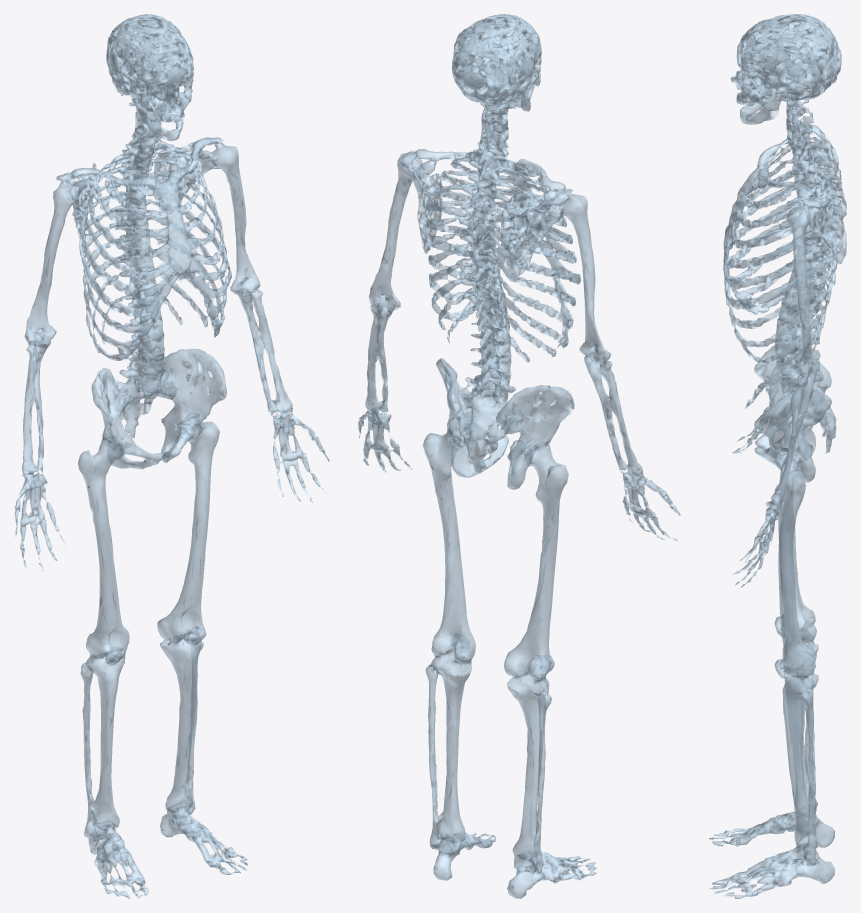
Rendered from wzorzec.glb.
The picture shows the model from 3 angles, left to right: view 1: azimuth 30°, elevation 25°; view 2: azimuth 150°, elevation 25°; view 3: azimuth 270°, elevation 25°; orthographic projection. The views are drawn at different scales.
Visible parts, largest first — view 1: Wzorzec szkieletu; view 2: Wzorzec szkieletu; view 3: Wzorzec szkieletu.
Boxes of the visible parts, box(x1,y1,x2,y2) form: Wzorzec szkieletu: box(14, 14, 329, 898); Wzorzec szkieletu: box(358, 14, 680, 898); Wzorzec szkieletu: box(709, 14, 846, 898).
Bounding box in the file's own units: 0.6442 × 1.64 × 0.2416.
